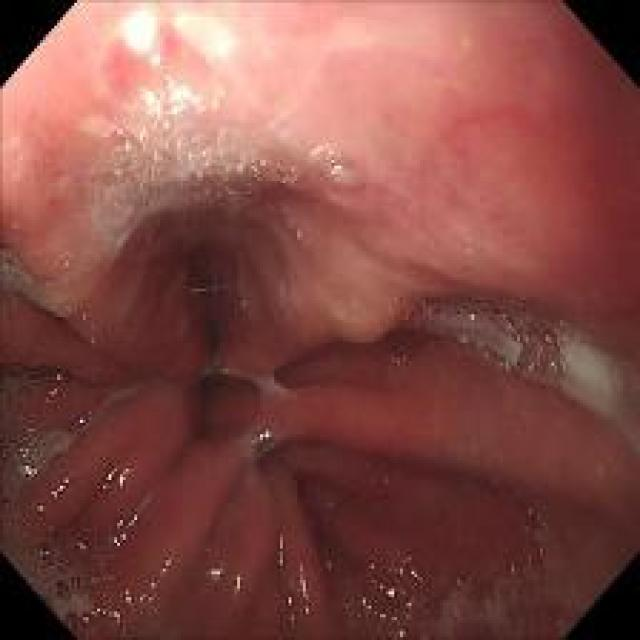bubbles: (90, 122, 284, 224), (8, 531, 128, 634), (552, 318, 629, 430), (431, 561, 538, 638), (408, 296, 520, 368), (519, 501, 580, 619), (0, 240, 44, 308), (506, 319, 554, 380), (1, 355, 56, 408), (0, 434, 16, 518), (250, 424, 279, 458), (318, 142, 346, 175), (288, 216, 315, 248), (56, 251, 70, 268)
color misalignment: (359, 555, 420, 636), (466, 310, 479, 324)
contrast: (166, 225, 232, 361)
specularity: (128, 75, 229, 130), (118, 556, 175, 605), (175, 6, 226, 55), (120, 6, 159, 62), (95, 466, 138, 491), (449, 562, 472, 596), (98, 599, 131, 619), (19, 442, 36, 478), (49, 471, 70, 498), (252, 430, 270, 444), (298, 576, 308, 601), (276, 535, 284, 565), (234, 572, 241, 594), (80, 610, 88, 624), (331, 161, 341, 171), (286, 611, 295, 621), (210, 569, 224, 575), (36, 502, 45, 511), (302, 605, 310, 615), (78, 540, 86, 550), (326, 146, 334, 154), (49, 388, 55, 398), (285, 596, 291, 604), (54, 372, 60, 380)
